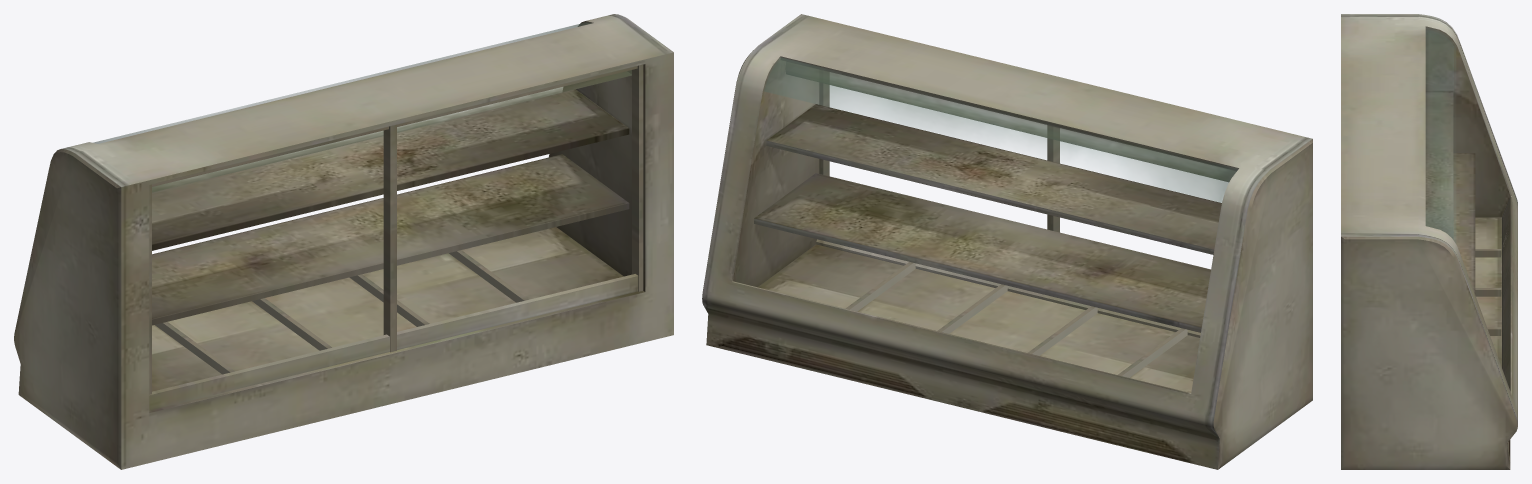
File: display_cooler01a.glb
3 views of the same model, side by side, from view 1: azimuth 30°, elevation 25°; view 2: azimuth 150°, elevation 25°; view 3: azimuth 270°, elevation 25° (orthographic). The views are drawn at different scales.
Visible parts, largest first — view 1: 0_display_cooler01a, 1_display_cooler01a_02; view 2: 0_display_cooler01a, 1_display_cooler01a_02; view 3: 0_display_cooler01a, 1_display_cooler01a_02.
Part boxes in pixels (x1,y1,x2,y2): 0_display_cooler01a: (14,14,673,469); 1_display_cooler01a_02: (93,22,631,192); 0_display_cooler01a: (702,14,1312,469); 1_display_cooler01a_02: (764,57,1238,202); 0_display_cooler01a: (1341,14,1517,469); 1_display_cooler01a_02: (1425,27,1455,242).
Size of the model in its own units: 2.64 by 1.28 by 0.8802.
2 materials, 2 textured.
